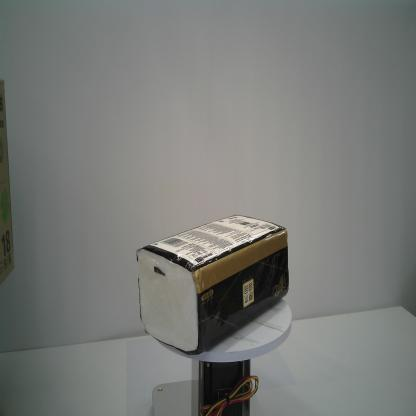Tissue: (133, 214, 291, 357)
